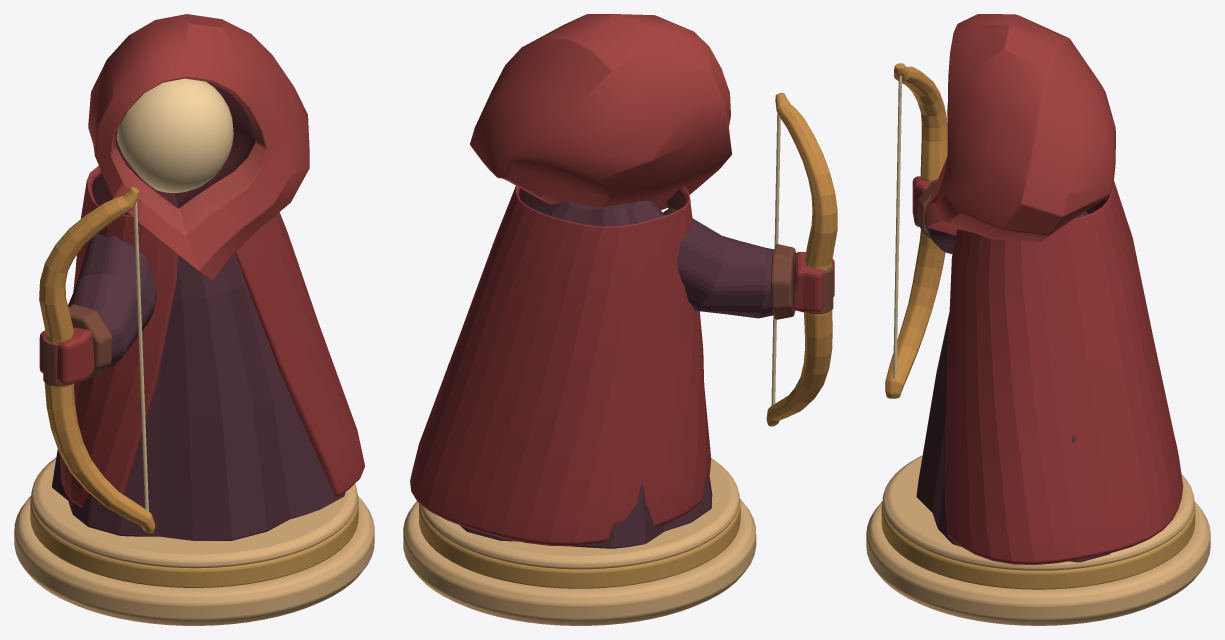
File: archer.glb
3 views of the same model, side by side, from view 1: azimuth 30°, elevation 25°; view 2: azimuth 150°, elevation 25°; view 3: azimuth 270°, elevation 25° (orthographic). The views are drawn at different scales.
Visible parts, largest first — view 1: Undertunic | cut folds, Hood | hollow carved shell and lining, Cape | swept open front, Plinth | turned maple foot, Plinth | maple seat, Head | blank ivory maple, Bow | yew stave, Plinth | gold leaf band, Bow arm | bent sleeve, Bow hand | carved mitten, Bow arm | compressed cuff, Bow | taut flax string (+1 smaller); view 2: Cape | swept open front, Hood | hollow carved shell and lining, Plinth | turned maple foot, Plinth | maple seat, Bow | yew stave, Bow arm | bent sleeve, Plinth | gold leaf band, Undertunic | cut folds, Bow arm | compressed cuff, Bow hand | carved mitten, Bow | taut flax string; view 3: Cape | swept open front, Hood | hollow carved shell and lining, Plinth | turned maple foot, Bow | yew stave, Plinth | maple seat, Plinth | gold leaf band, Undertunic | cut folds, Bow | taut flax string, Bow arm | compressed cuff, Bow arm | bent sleeve.
Part boxes in pixels (left/top/right/bottom): Undertunic | cut folds: left=52, top=213, right=345, bottom=541; Hood | hollow carved shell and lining: left=88, top=14, right=309, bottom=280; Cape | swept open front: left=59, top=166, right=364, bottom=511; Plinth | turned maple foot: left=14, top=495, right=374, bottom=625; Plinth | maple seat: left=31, top=457, right=357, bottom=568; Head | blank ivory maple: left=116, top=78, right=233, bottom=192; Bow | yew stave: left=39, top=187, right=155, bottom=533; Plinth | gold leaf band: left=30, top=496, right=358, bottom=587; Bow arm | bent sleeve: left=68, top=234, right=156, bottom=368; Bow hand | carved mitten: left=39, top=327, right=94, bottom=384; Bow arm | compressed cuff: left=68, top=304, right=112, bottom=378; Bow | taut flax string: left=133, top=200, right=148, bottom=511; Cape | swept open front: left=410, top=185, right=711, bottom=546; Hood | hollow carved shell and lining: left=470, top=14, right=731, bottom=209; Plinth | turned maple foot: left=403, top=498, right=756, bottom=625; Plinth | maple seat: left=420, top=458, right=739, bottom=569; Bow | yew stave: left=766, top=93, right=837, bottom=426; Bow arm | bent sleeve: left=663, top=208, right=794, bottom=318; Plinth | gold leaf band: left=419, top=499, right=740, bottom=588; Undertunic | cut folds: left=447, top=199, right=712, bottom=548; Bow arm | compressed cuff: left=770, top=244, right=796, bottom=319; Bow hand | carved mitten: left=793, top=251, right=834, bottom=312; Bow | taut flax string: left=771, top=113, right=780, bottom=405; Cape | swept open front: left=945, top=181, right=1183, bottom=564; Hood | hollow carved shell and lining: left=926, top=14, right=1115, bottom=241; Plinth | turned maple foot: left=866, top=501, right=1210, bottom=625; Bow | yew stave: left=885, top=63, right=947, bottom=398; Plinth | maple seat: left=882, top=455, right=1194, bottom=570; Plinth | gold leaf band: left=881, top=503, right=1195, bottom=589; Undertunic | cut folds: left=916, top=211, right=1110, bottom=562; Bow | taut flax string: left=893, top=75, right=902, bottom=379; Bow arm | compressed cuff: left=917, top=179, right=937, bottom=239; Bow arm | bent sleeve: left=925, top=209, right=955, bottom=254.
Size of the model in its own units: 1.91 by 2.76 by 1.65.
